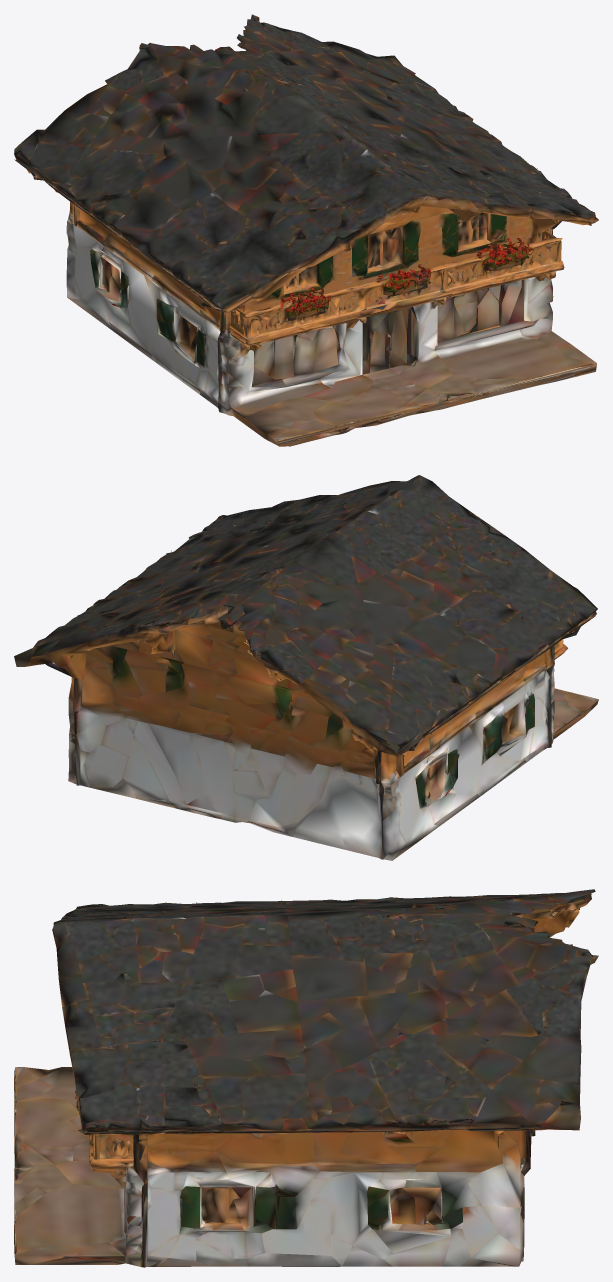
The model's file is chalet.glb.
The picture shows the model from 3 angles, top to bottom: view 1: azimuth 30°, elevation 25°; view 2: azimuth 150°, elevation 25°; view 3: azimuth 270°, elevation 25°; orthographic projection. The views are drawn at different scales.
Bounding box in the file's own units: 1.77 × 0.9329 × 1.92.
Materials: 1 (1 with a texture image).
